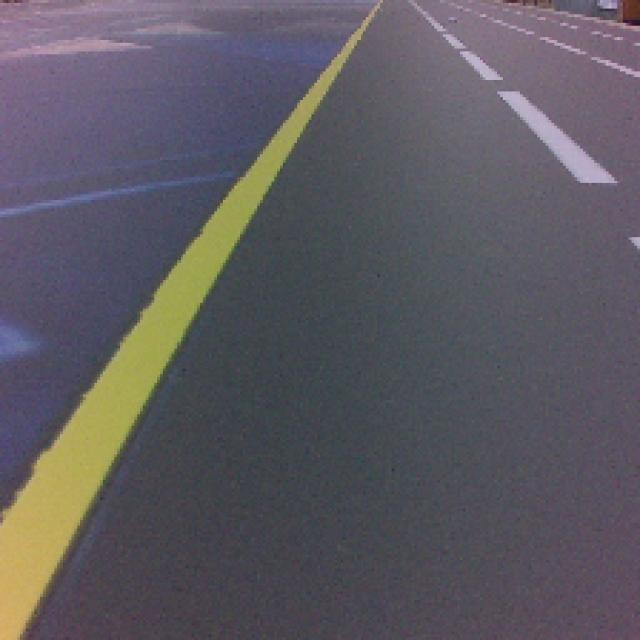Road: (18, 279, 636, 638)
